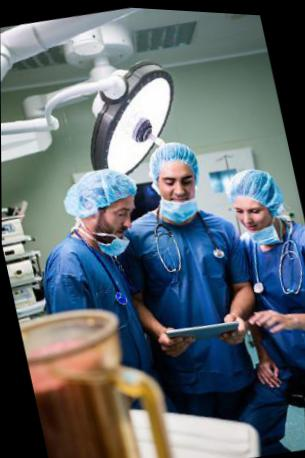WRONG: (157, 161, 201, 214), (100, 195, 142, 248), (234, 192, 272, 237)
